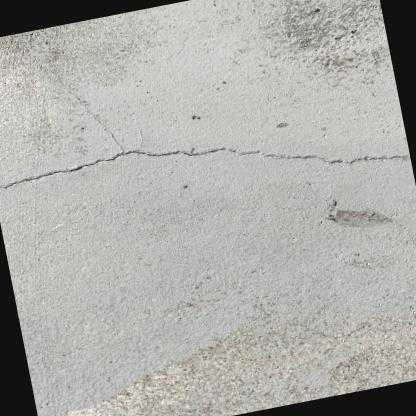crack: (0, 147, 410, 189)
